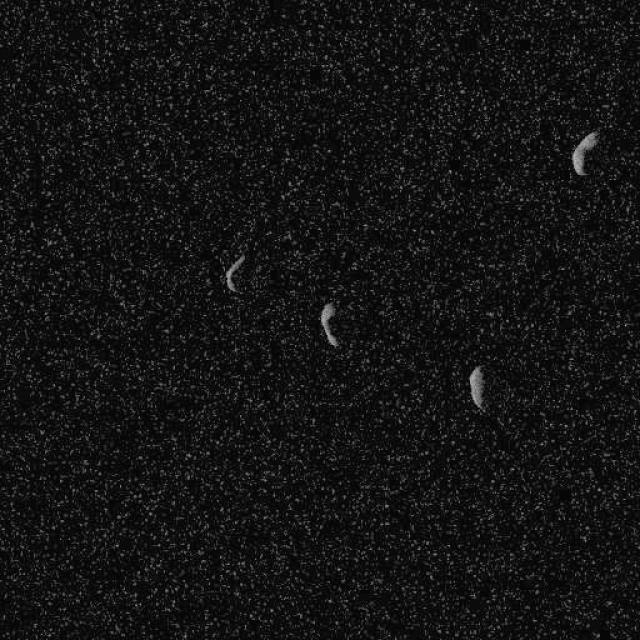D2: (570, 129, 599, 176), (318, 300, 340, 349), (468, 362, 488, 413), (222, 252, 246, 294)
